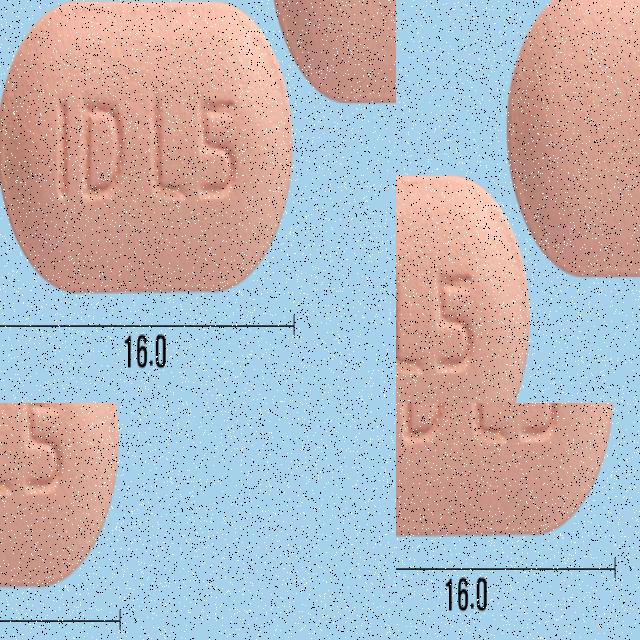Levocaxin: (0, 117, 356, 401)
Levofexin: (396, 403, 615, 533)
Levotwo: (516, 18, 640, 403), (396, 11, 481, 403)
Teva Azathioprine Tab: (0, 403, 108, 588)
